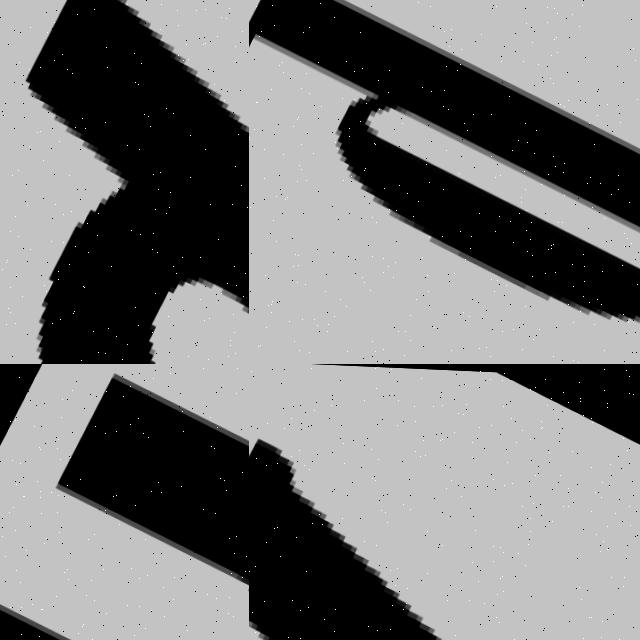H: (49, 372, 249, 587)
L: (249, 406, 640, 640)
P: (249, 0, 640, 310), (24, 0, 249, 364)
